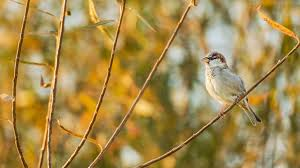hsparrow: (197, 51, 268, 126)
